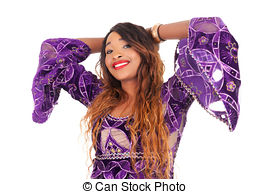face: (100, 15, 160, 89)
